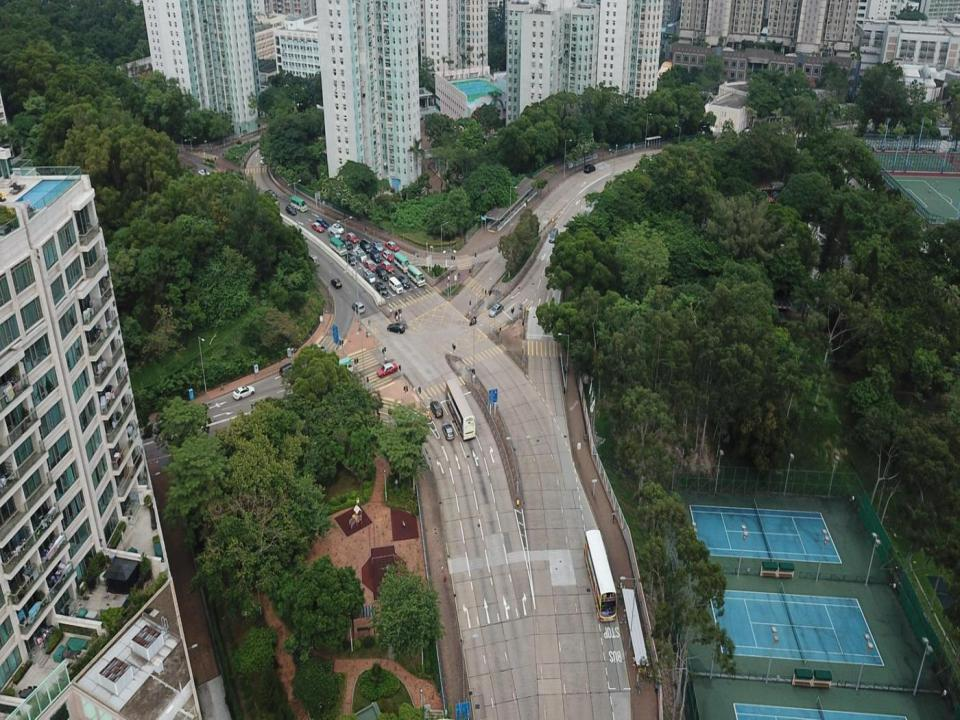bus: (585, 528, 617, 622), (446, 378, 476, 441), (325, 357, 353, 379), (406, 263, 426, 288), (392, 250, 410, 274), (329, 235, 346, 256), (290, 196, 308, 212)
car: (233, 384, 256, 400), (376, 362, 398, 378), (431, 399, 444, 418), (441, 422, 453, 441), (489, 303, 504, 318), (386, 322, 404, 334), (351, 300, 366, 314), (375, 281, 388, 296), (385, 240, 400, 252), (382, 258, 394, 273), (345, 250, 356, 265), (365, 260, 377, 273), (398, 276, 410, 289), (371, 240, 383, 253), (284, 204, 296, 217), (332, 222, 345, 234), (310, 221, 324, 232), (381, 248, 393, 260), (370, 249, 381, 262), (329, 228, 340, 241), (331, 277, 342, 289), (264, 189, 276, 200), (316, 219, 329, 228), (346, 232, 357, 242), (583, 164, 596, 172), (198, 167, 208, 177), (260, 152, 265, 164)
van: (279, 364, 297, 378), (389, 275, 402, 294), (355, 245, 366, 261), (548, 228, 559, 243), (364, 268, 375, 282), (360, 238, 370, 251)
